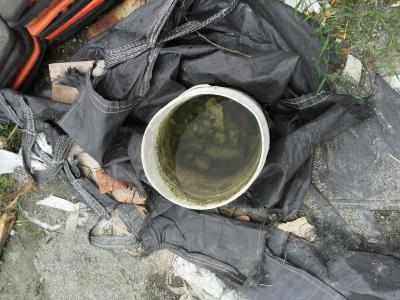bucket: (139, 84, 273, 215)
plastic_bag: (116, 1, 325, 84), (230, 244, 400, 300)
